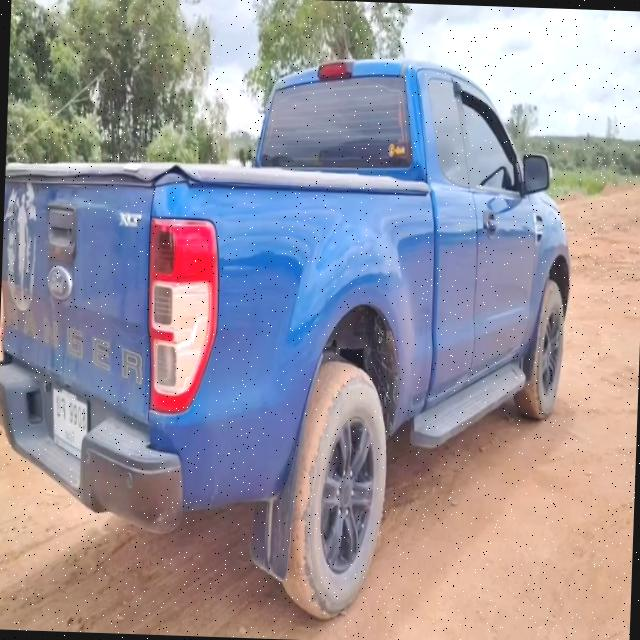Digit: (68, 400, 87, 433)
Licenseplate: (51, 383, 90, 465)
Provincename: (63, 425, 76, 448)
Thaichar: (55, 393, 66, 421)
